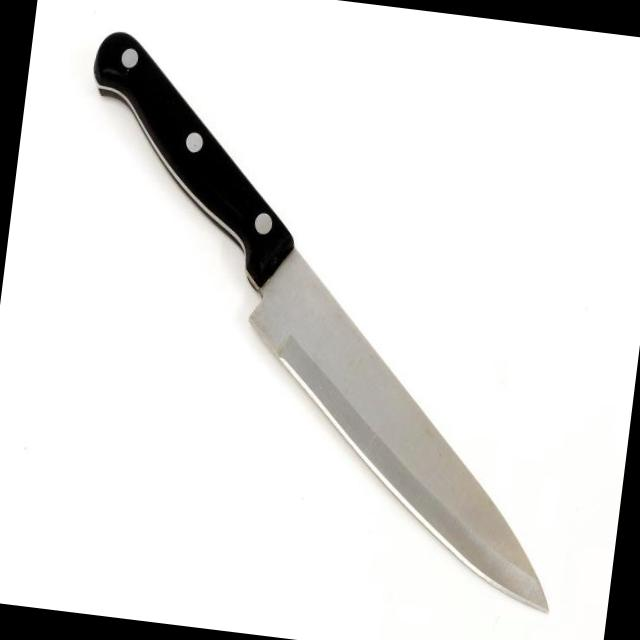Knife: (93, 33, 548, 611)
